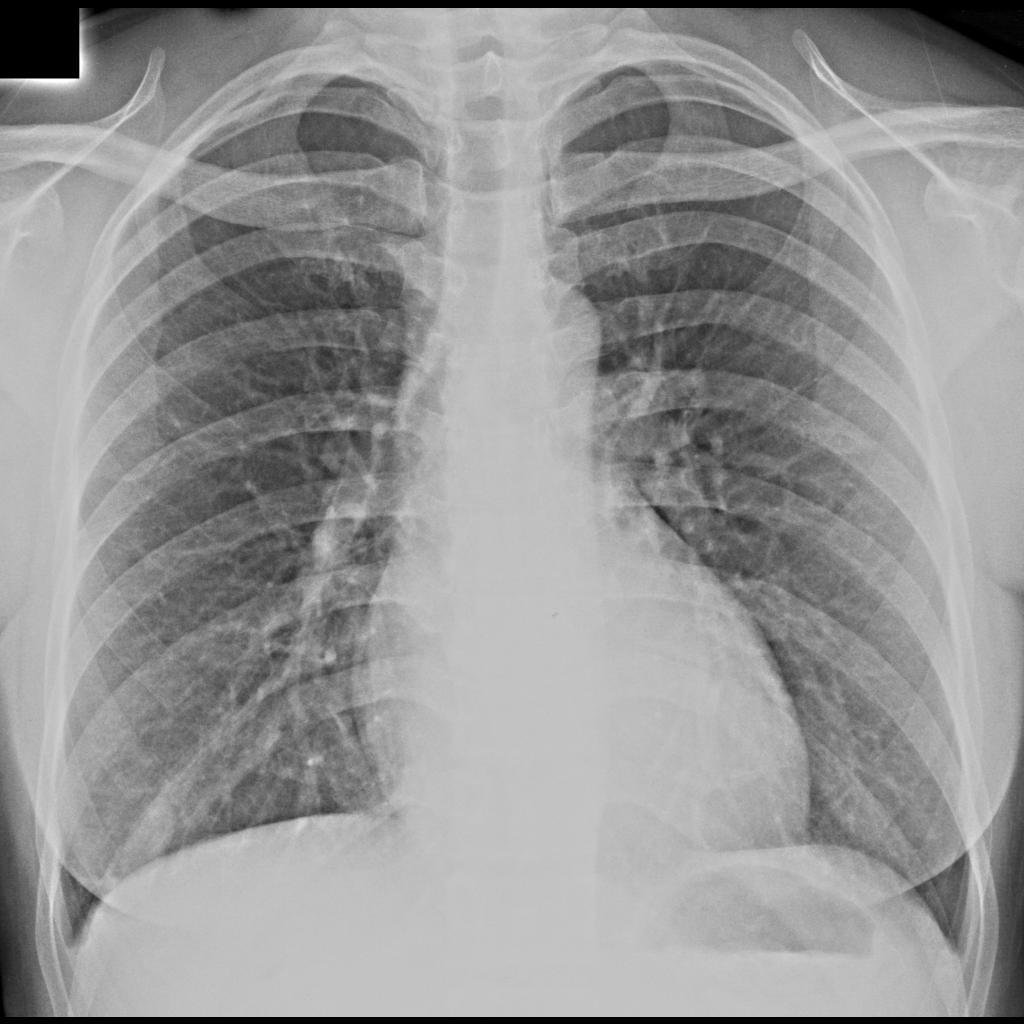Nodule: (121, 799, 175, 853)
